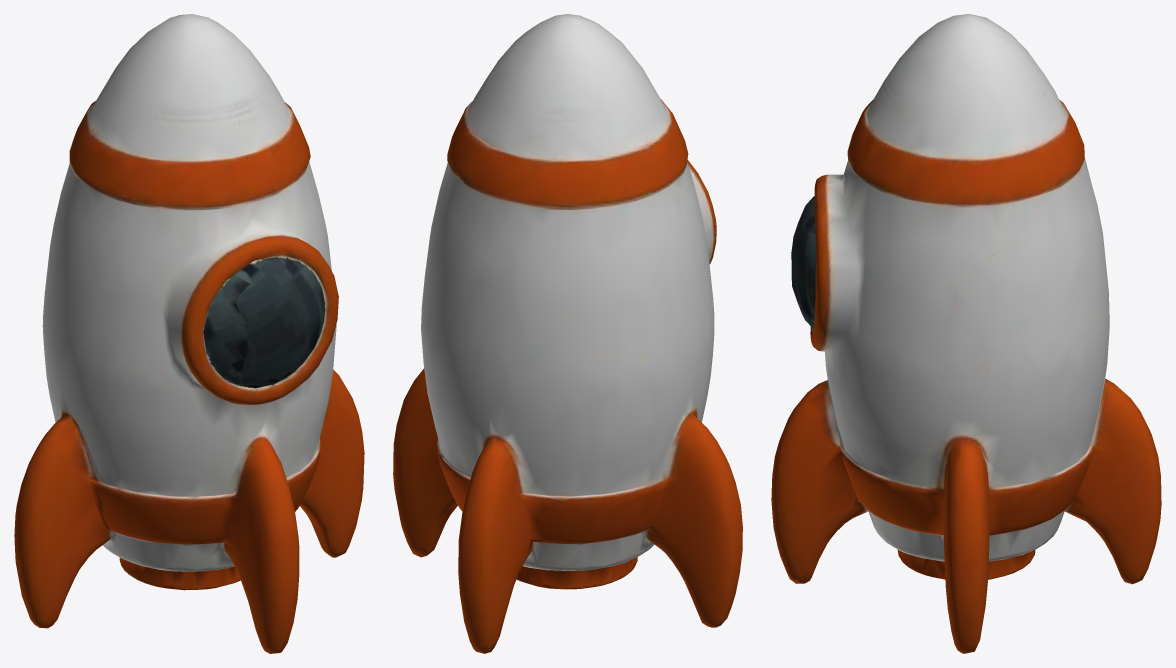
File: space_rocket.glb
The picture shows the model from 3 angles, left to right: view 1: azimuth 30°, elevation 25°; view 2: azimuth 150°, elevation 25°; view 3: azimuth 270°, elevation 25°; orthographic projection.
Parts seen in each view (by area): view 1: tripo_node_d76761e1-15ec-40de-82c6-c56797506b59; view 2: tripo_node_d76761e1-15ec-40de-82c6-c56797506b59; view 3: tripo_node_d76761e1-15ec-40de-82c6-c56797506b59.
Part boxes in pixels (box(x1,y1,x2,y2)): tripo_node_d76761e1-15ec-40de-82c6-c56797506b59: box(14, 14, 364, 653); tripo_node_d76761e1-15ec-40de-82c6-c56797506b59: box(393, 14, 742, 653); tripo_node_d76761e1-15ec-40de-82c6-c56797506b59: box(771, 14, 1161, 653).
Bounding box in the file's own units: 0.6116 × 0.9783 × 0.6121.
Materials: 1 (1 with a texture image).
